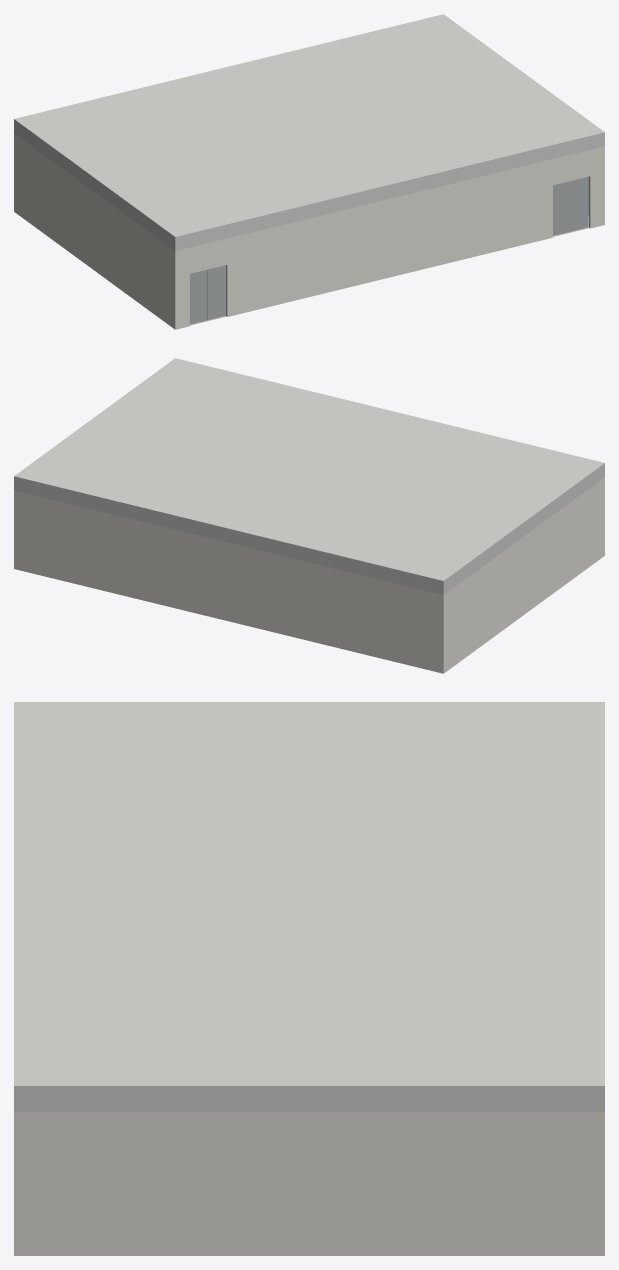
File: datahall.glb
The picture shows the model from 3 angles, top to bottom: view 1: azimuth 30°, elevation 25°; view 2: azimuth 150°, elevation 25°; view 3: azimuth 270°, elevation 25°; orthographic projection. The views are drawn at different scales.
Parts seen in each view (by area): view 1: hall_roof, hall_wall_S, hall_wall_W, door_W_leaf_E, door_E_leaf_E, door_E_leaf_W, door_W_leaf_W; view 2: hall_roof, hall_wall_N, hall_wall_W; view 3: hall_roof, hall_wall_E.
Part boxes in pixels (<box>): hall_roof: <box>14,14,604,237</box>; hall_wall_S: <box>174,134,602,329</box>; hall_wall_W: <box>14,121,177,328</box>; door_W_leaf_E: <box>207,265,225,320</box>; door_E_leaf_E: <box>570,176,588,231</box>; door_E_leaf_W: <box>553,181,569,235</box>; door_W_leaf_W: <box>190,270,206,324</box>; hall_roof: <box>14,358,604,581</box>; hall_wall_N: <box>14,478,444,673</box>; hall_wall_W: <box>441,464,604,673</box>; hall_roof: <box>14,702,604,1087</box>; hall_wall_E: <box>14,1088,604,1255</box>.
Bounding box in the file's own units: 20.6 × 4.27 × 13.4.
Materials: 84 (3 with a texture image).
